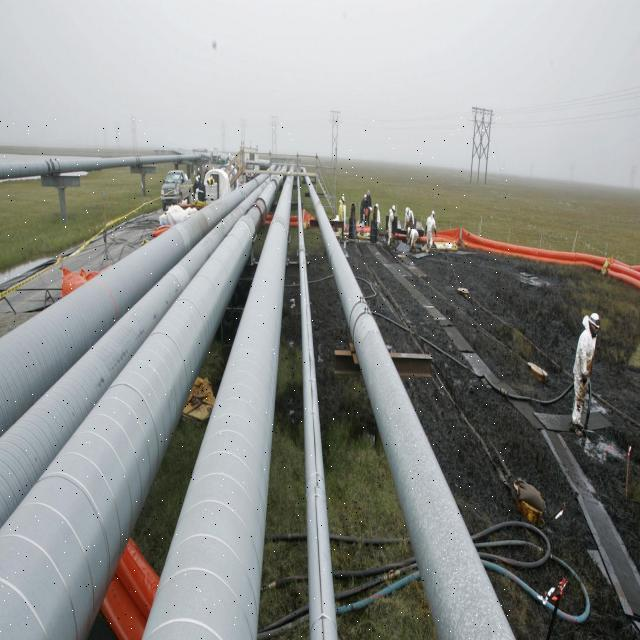gas: (0, 218, 255, 639), (308, 180, 515, 640), (0, 182, 264, 526), (142, 176, 294, 640), (1, 179, 260, 432), (299, 220, 338, 640)
